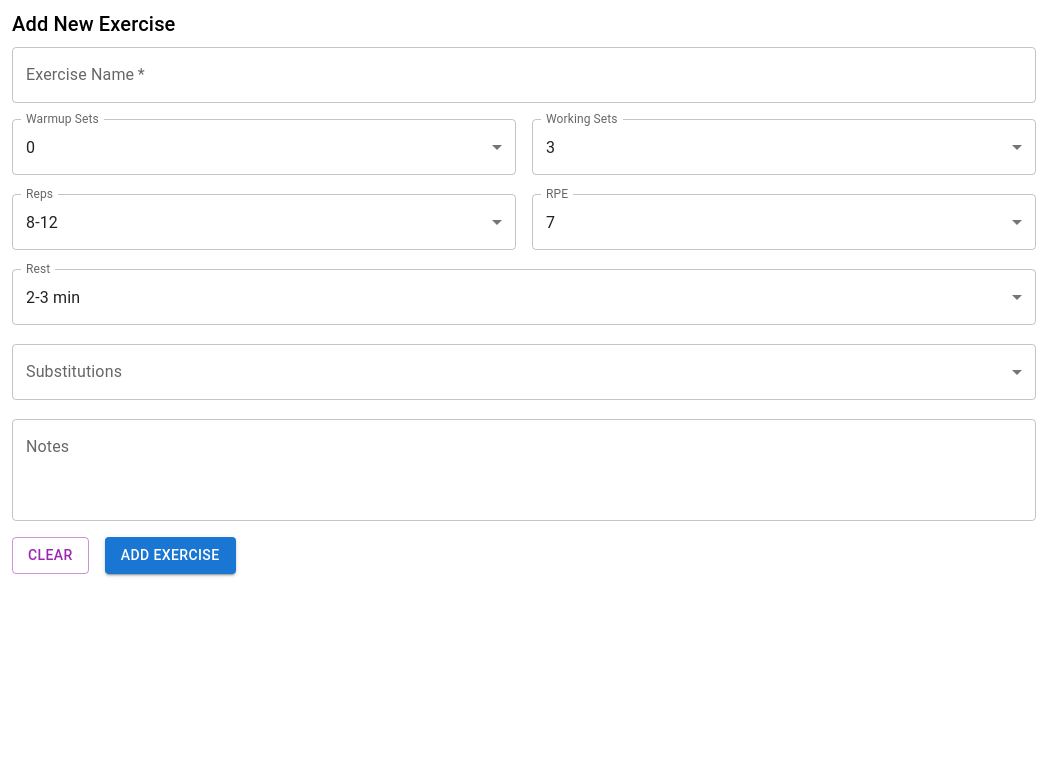
it: ExerciseForm › validates form submission
The width and height of the screenshot is (1048, 768).
Click the button "Add Exercise" at (170, 555), box [105, 537, 236, 574]
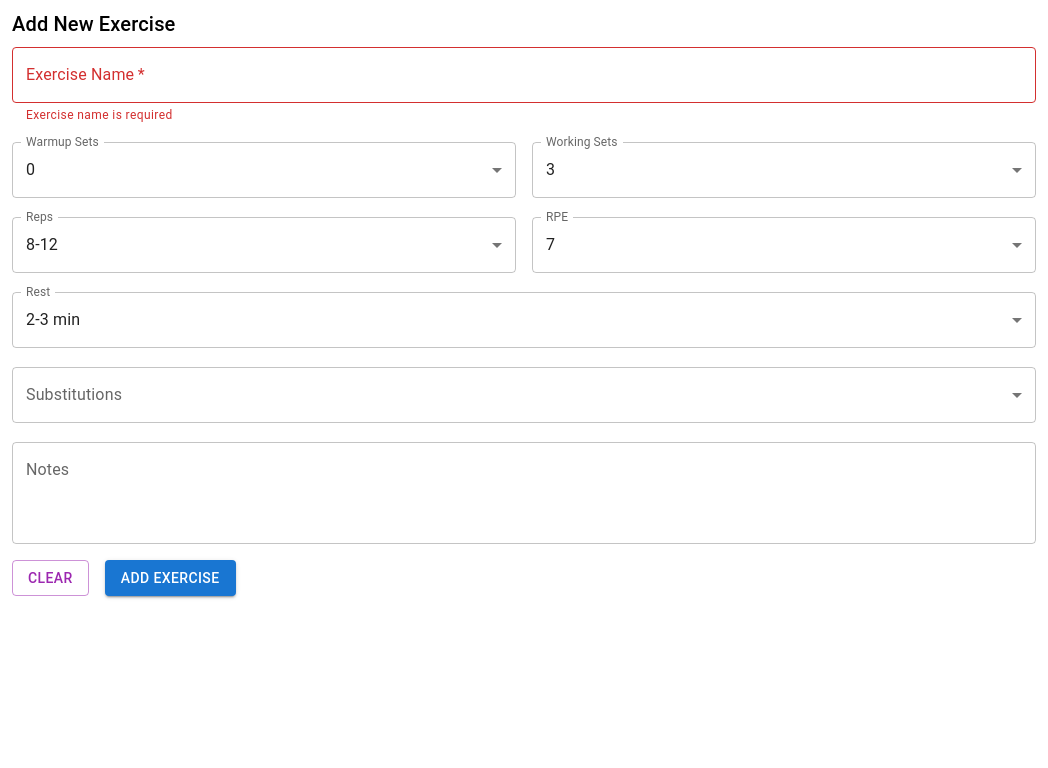
Expected: the text "Exercise name is required" is shown, [26, 108, 173, 122]
